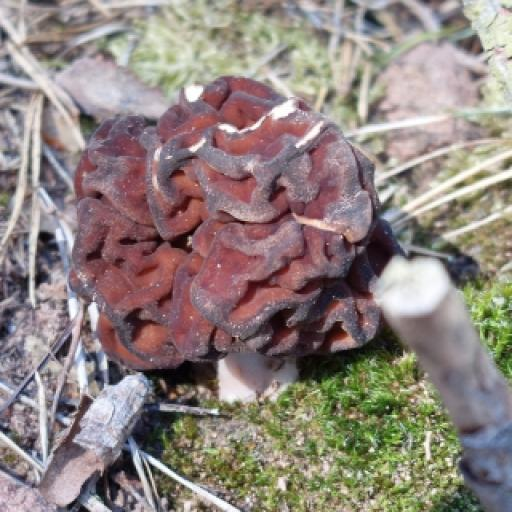mushroom: (44, 55, 426, 430)
